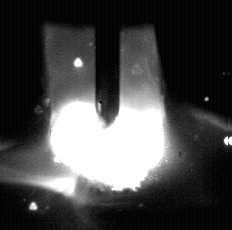arame: (95, 0, 121, 130)
poca: (50, 0, 166, 230)
